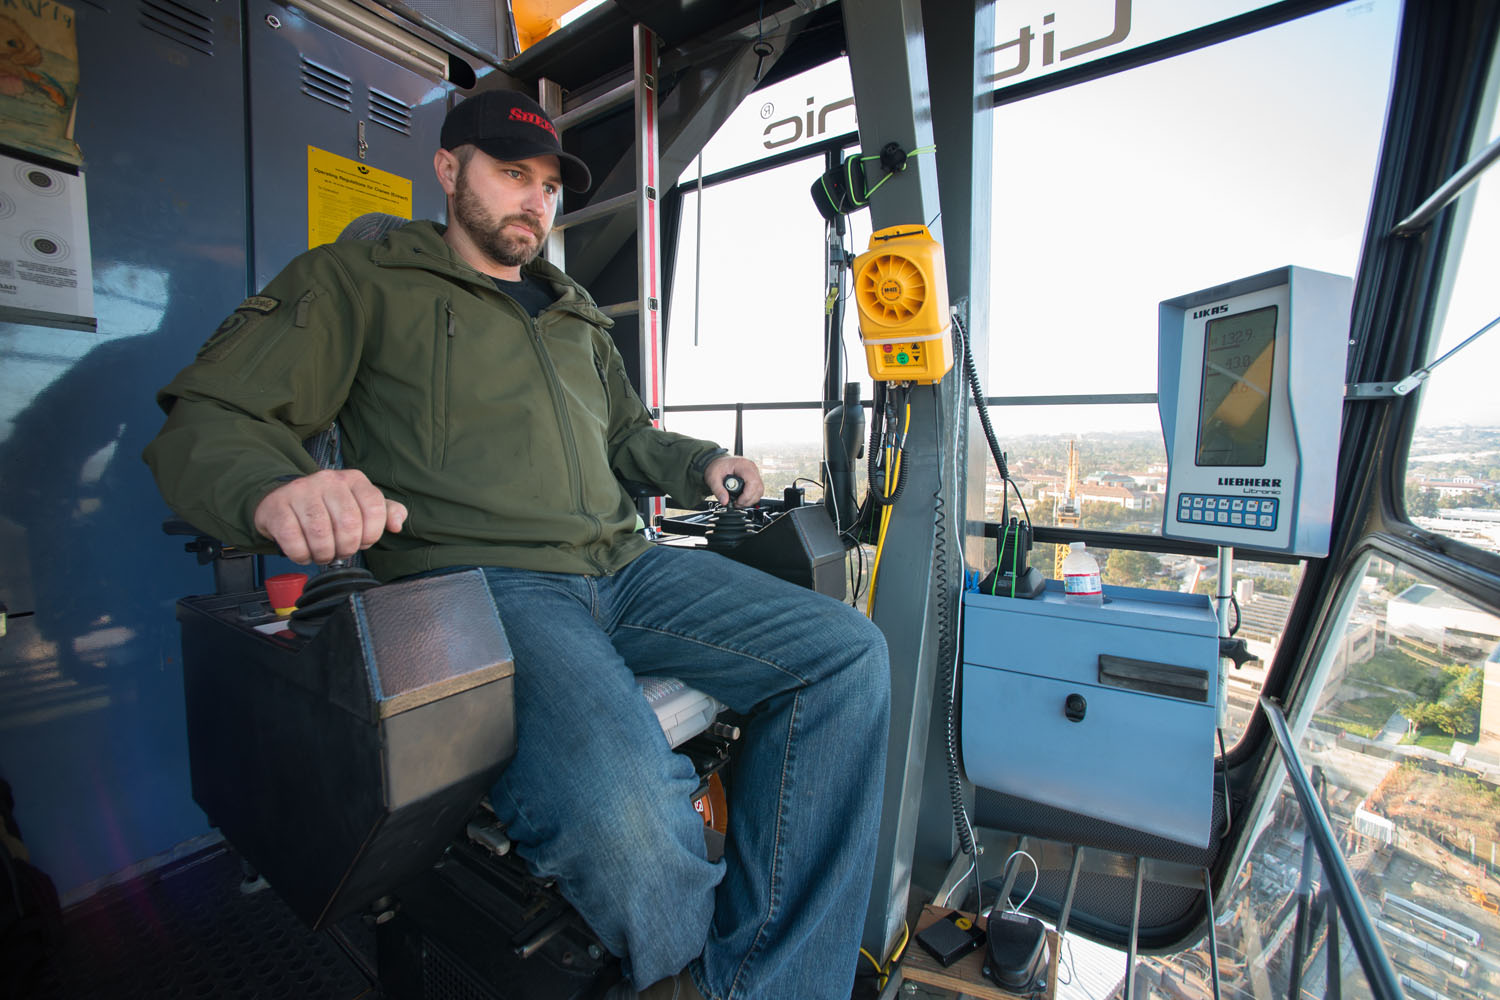crane-operator: (238, 96, 796, 459)
